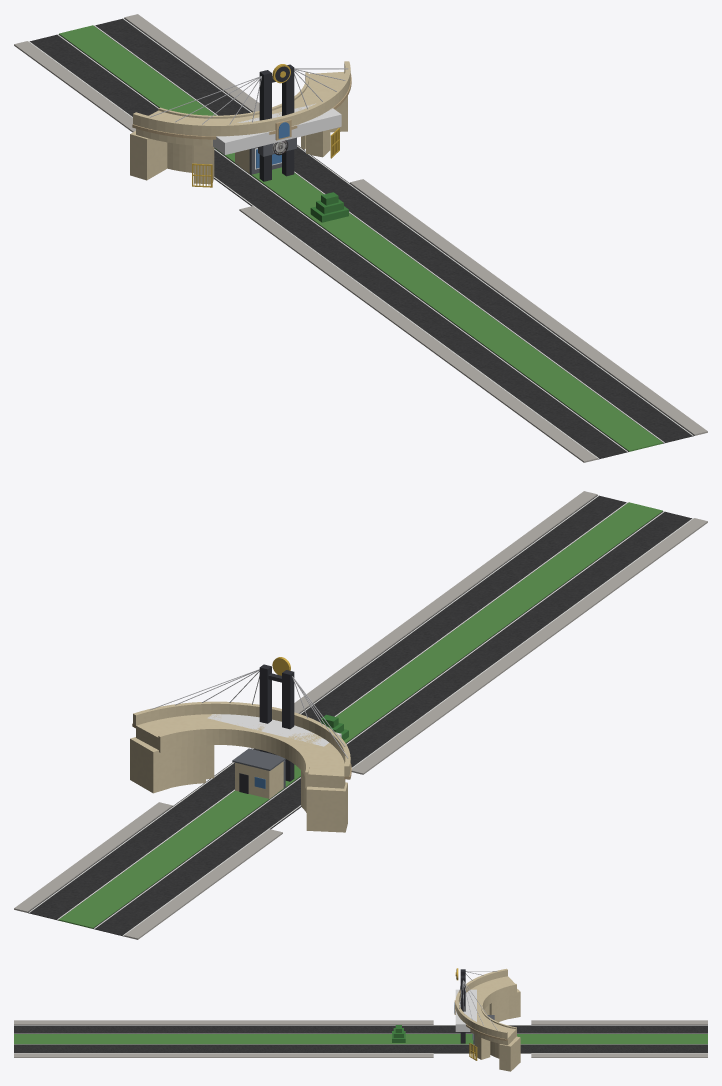
The model's file is AR_OAUGate_WithRoad.glb.
3 renders of one model, top to bottom at view 1: azimuth 30°, elevation 25°; view 2: azimuth 150°, elevation 25°; view 3: azimuth 270°, elevation 25°, orthographic. The views are drawn at different scales.
Visible parts, largest first — view 1: AR_OAUGate_Median_LOD0, AR_OAUGate_Road_R_LOD0, AR_OAUGate_Road_L_LOD0, AR_OAUGate_CurbFront_L_LOD0, AR_OAUGate_CurbFront_R_LOD0, COL_roof_centre, AR_OAUGate_CurbRear_R_LOD0, AR_OAUGate_CurbRear_L_LOD0, AR_OAUGate_Pier_L_66_LOD0, AR_OAUGate_Fascia_C_LOD0, AR_OAUGate_Fascia_L_LOD0, AR_OAUGate_Edge_R_525_LOD0 (+9 smaller); view 2: AR_OAUGate_Median_LOD0, AR_OAUGate_Road_L_LOD0, AR_OAUGate_Road_R_LOD0, AR_OAUGate_CurbFront_L_LOD0, AR_OAUGate_CurbFront_R_LOD0, AR_OAUGate_RearLip_LOD0, AR_OAUGate_CurbRear_L_LOD0, AR_OAUGate_CurbRear_R_LOD0, AR_OAUGate_Pier_L_66_LOD0, AR_OAUGate_Pier_R_66_LOD0, AR_OAUGate_RoofSlab_L_LOD0, AR_OAUGate_BackWall_R_LOD0 (+12 smaller); view 3: AR_OAUGate_Median_LOD0, AR_OAUGate_Road_R_LOD0, AR_OAUGate_Road_L_LOD0, AR_OAUGate_CurbFront_L_LOD0, AR_OAUGate_CurbFront_R_LOD0, AR_OAUGate_CurbRear_L_LOD0, AR_OAUGate_CurbRear_R_LOD0, AR_OAUGate_Edge_R_525_LOD0, AR_OAUGate_Edge_R_204_LOD0, AR_OAUGate_Edge_L_525_LOD0, AR_OAUGate_Edge_L_204_LOD0, AR_OAUGate_Pier_R_66_LOD0 (+11 smaller).
Part boxes in pixels (x1,y1,x2,y2): AR_OAUGate_Median_LOD0: (59, 25, 662, 451); AR_OAUGate_Road_R_LOD0: (95, 18, 694, 443); AR_OAUGate_Road_L_LOD0: (30, 34, 628, 459); AR_OAUGate_CurbFront_L_LOD0: (239, 206, 597, 462); AR_OAUGate_CurbFront_R_LOD0: (350, 179, 707, 435); COL_roof_centre: (213, 103, 341, 154); AR_OAUGate_CurbRear_R_LOD0: (124, 14, 259, 111); AR_OAUGate_CurbRear_L_LOD0: (14, 41, 135, 132); AR_OAUGate_Pier_L_66_LOD0: (130, 131, 167, 180); AR_OAUGate_Fascia_C_LOD0: (220, 98, 329, 136); AR_OAUGate_Fascia_L_LOD0: (133, 112, 220, 136); AR_OAUGate_Edge_R_525_LOD0: (122, 18, 693, 435); AR_OAUGate_Median_LOD0: (59, 502, 662, 928); AR_OAUGate_Road_L_LOD0: (93, 511, 691, 936); AR_OAUGate_Road_R_LOD0: (27, 495, 626, 920); AR_OAUGate_CurbFront_L_LOD0: (351, 518, 707, 774); AR_OAUGate_CurbFront_R_LOD0: (294, 491, 597, 713); AR_OAUGate_RearLip_LOD0: (158, 727, 309, 788); AR_OAUGate_CurbRear_L_LOD0: (124, 829, 282, 939); AR_OAUGate_CurbRear_R_LOD0: (14, 802, 172, 912); AR_OAUGate_Pier_L_66_LOD0: (306, 782, 347, 832); AR_OAUGate_Pier_R_66_LOD0: (130, 737, 169, 793); AR_OAUGate_RoofSlab_L_LOD0: (297, 743, 345, 788); AR_OAUGate_BackWall_R_LOD0: (170, 745, 205, 787); AR_OAUGate_Median_LOD0: (14, 1034, 707, 1044); AR_OAUGate_Road_R_LOD0: (14, 1044, 707, 1053); AR_OAUGate_Road_L_LOD0: (14, 1025, 707, 1033); AR_OAUGate_CurbFront_L_LOD0: (14, 1020, 433, 1024); AR_OAUGate_CurbFront_R_LOD0: (14, 1053, 433, 1057); AR_OAUGate_CurbRear_L_LOD0: (531, 1020, 707, 1024); AR_OAUGate_CurbRear_R_LOD0: (531, 1053, 707, 1057); AR_OAUGate_Edge_R_525_LOD0: (14, 1053, 707, 1053); AR_OAUGate_Edge_R_204_LOD0: (14, 1044, 707, 1044); AR_OAUGate_Edge_L_525_LOD0: (14, 1025, 707, 1025); AR_OAUGate_Edge_L_204_LOD0: (14, 1033, 707, 1033); AR_OAUGate_Pier_R_66_LOD0: (499, 1036, 520, 1071).
Size of the model in its own units: 24.29 by 12.4 by 110.
Materials: 14 (3 with a texture image).
